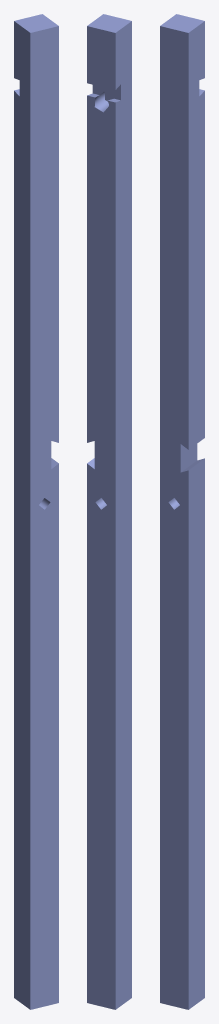
Rendered from Copie de Bati Pied Arriere droit^Copie de Bati_Horloge Comtoise Verge - Sonnerie.obj.
The picture shows the model from 3 angles, left to right: view 1: azimuth 30°, elevation 25°; view 2: azimuth 150°, elevation 25°; view 3: azimuth 330°, elevation 25°; orthographic projection.
Visible parts, largest first — view 1: Face_8, Face_1, Face_9; view 2: Face_6, Face_1, Face_2, Face_9, Face_4, Face_12; view 3: Face_8, Face_16, Face_10, Face_9, Face_14.
Part boxes in pixels (<box>): Face_8: <box>30,26,58,1009</box>; Face_1: <box>14,21,30,1009</box>; Face_9: <box>14,14,58,32</box>; Face_6: <box>87,95,115,1009</box>; Face_1: <box>115,21,131,1009</box>; Face_2: <box>87,26,115,89</box>; Face_9: <box>87,14,131,32</box>; Face_4: <box>92,84,120,100</box>; Face_12: <box>94,92,108,112</box>; Face_8: <box>160,26,188,1009</box>; Face_16: <box>188,458,204,1009</box>; Face_10: <box>188,21,204,449</box>; Face_9: <box>160,14,204,32</box>; Face_14: <box>180,444,197,472</box>.
Size of the model in its own units: 0.0073 by 0.239 by 0.0073.
